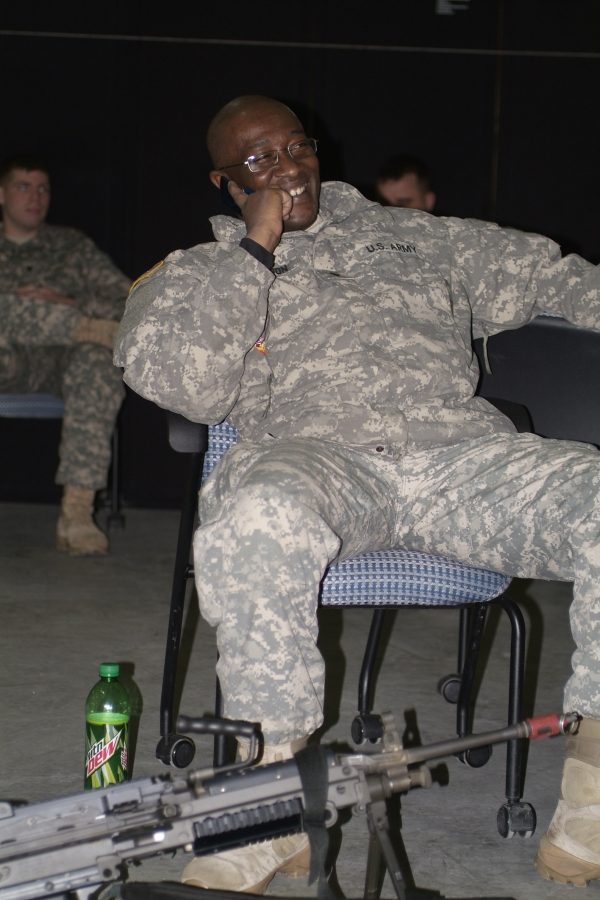phone: (224, 170, 292, 236)
talk: (222, 119, 320, 245)
